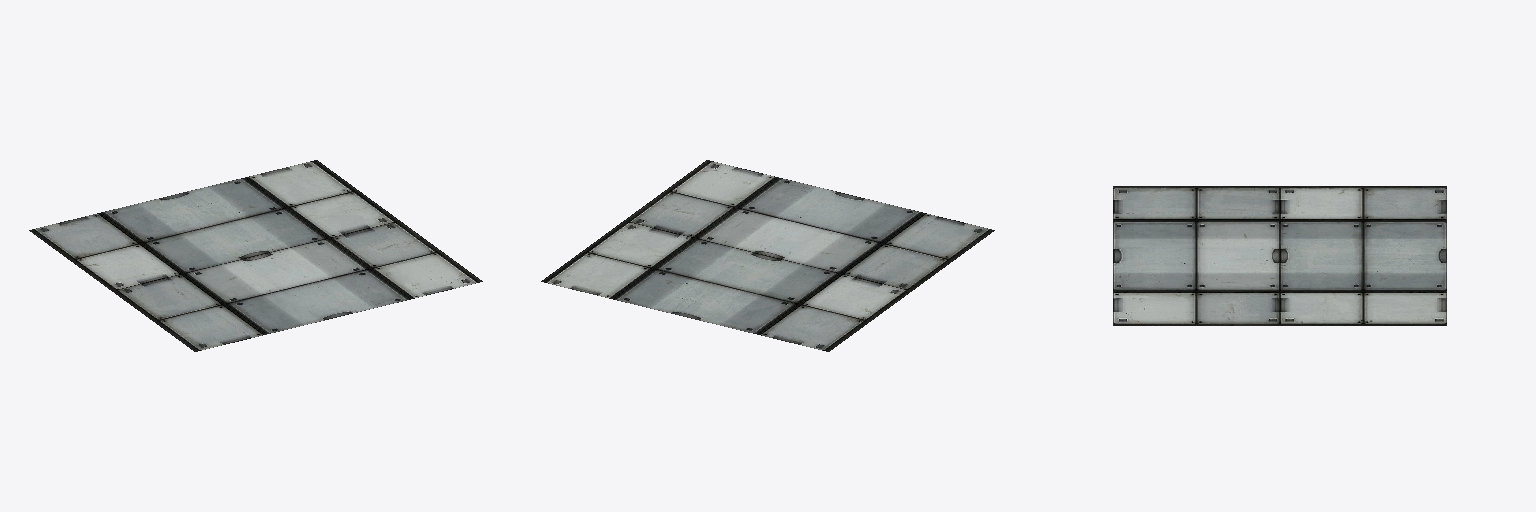
3 views of the same model, side by side, from view 1: azimuth 30°, elevation 25°; view 2: azimuth 150°, elevation 25°; view 3: azimuth 270°, elevation 25° (orthographic).
Visible parts, largest first — view 1: Plane; view 2: Plane; view 3: Plane.
Boxes of the visible parts, x1,y1,x2,y2 form: Plane: [29, 160, 482, 351]; Plane: [541, 160, 994, 351]; Plane: [1113, 186, 1446, 325].
Size of the model in its own units: 2 by 0 by 2.
Materials: 1 (1 with a texture image).